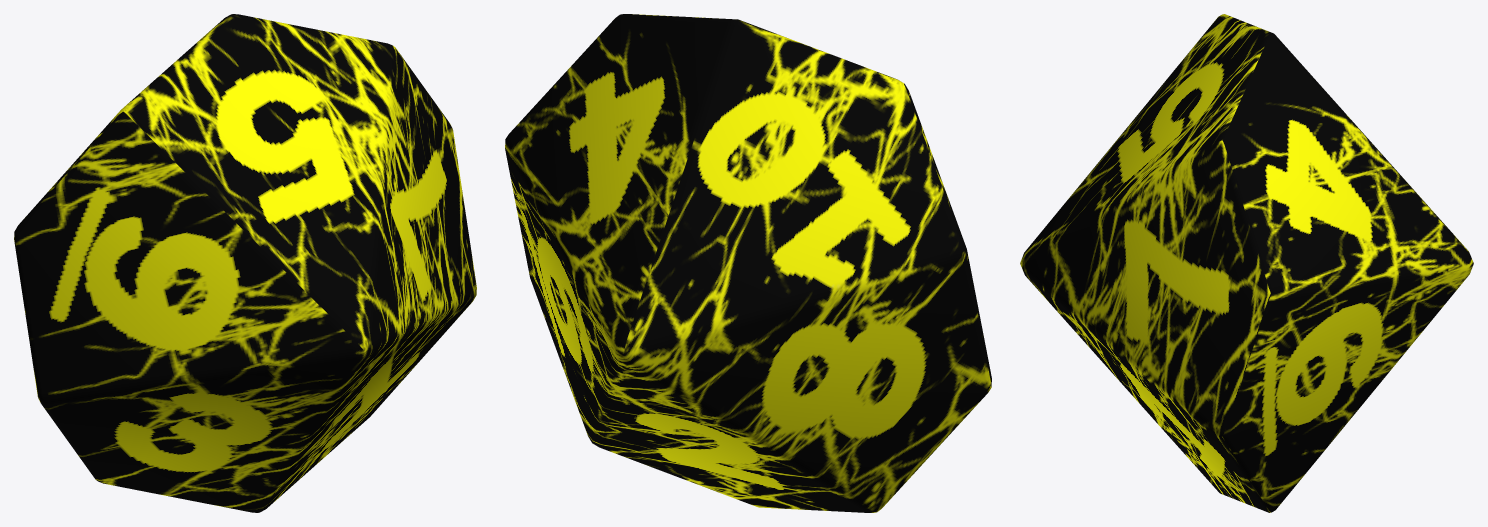
The picture shows the model from 3 angles, left to right: view 1: azimuth 30°, elevation 25°; view 2: azimuth 150°, elevation 25°; view 3: azimuth 270°, elevation 25°; orthographic projection. The views are drawn at different scales.
Visible parts, largest first — view 1: 10Yellow_10Yellow_0; view 2: 10Yellow_10Yellow_0; view 3: 10Yellow_10Yellow_0.
Boxes of the visible parts, x1,y1,x2,y2 form: 10Yellow_10Yellow_0: (14, 14, 476, 512); 10Yellow_10Yellow_0: (505, 14, 991, 512); 10Yellow_10Yellow_0: (1020, 14, 1473, 512).
Bounding box in the file's own units: 1.51 × 1.58 × 1.41.
1 material, 1 textured.
